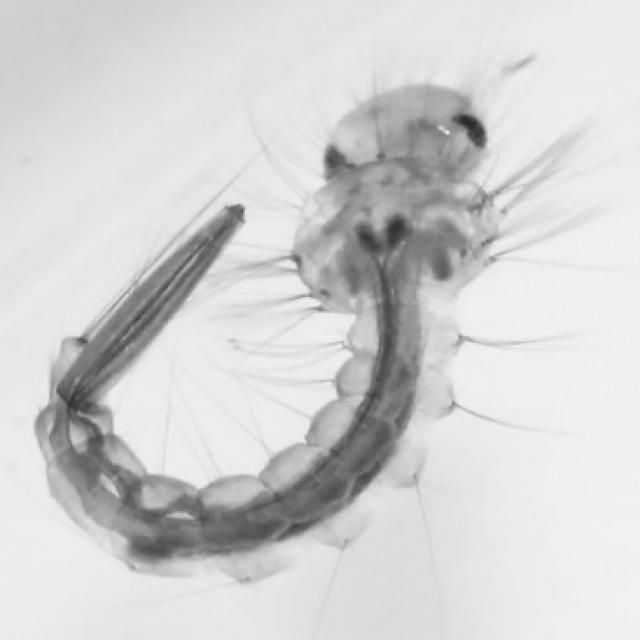larvas: (48, 88, 495, 575)
